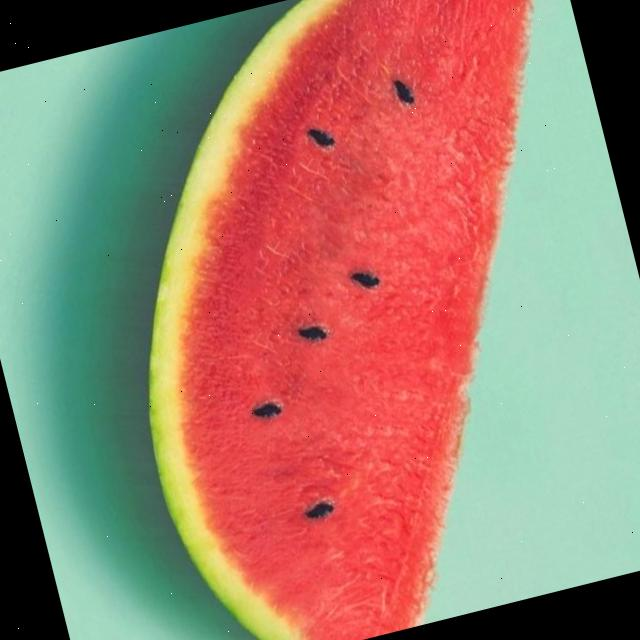watermelon: (51, 0, 640, 640)
